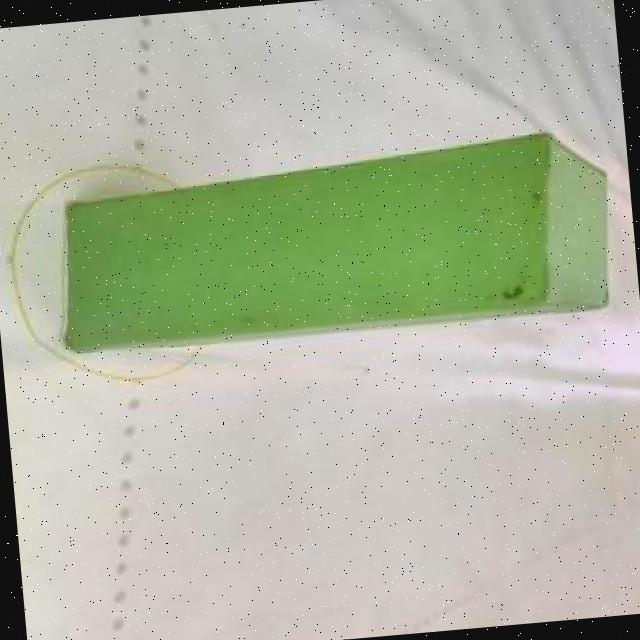greenbox: (48, 122, 618, 354)
